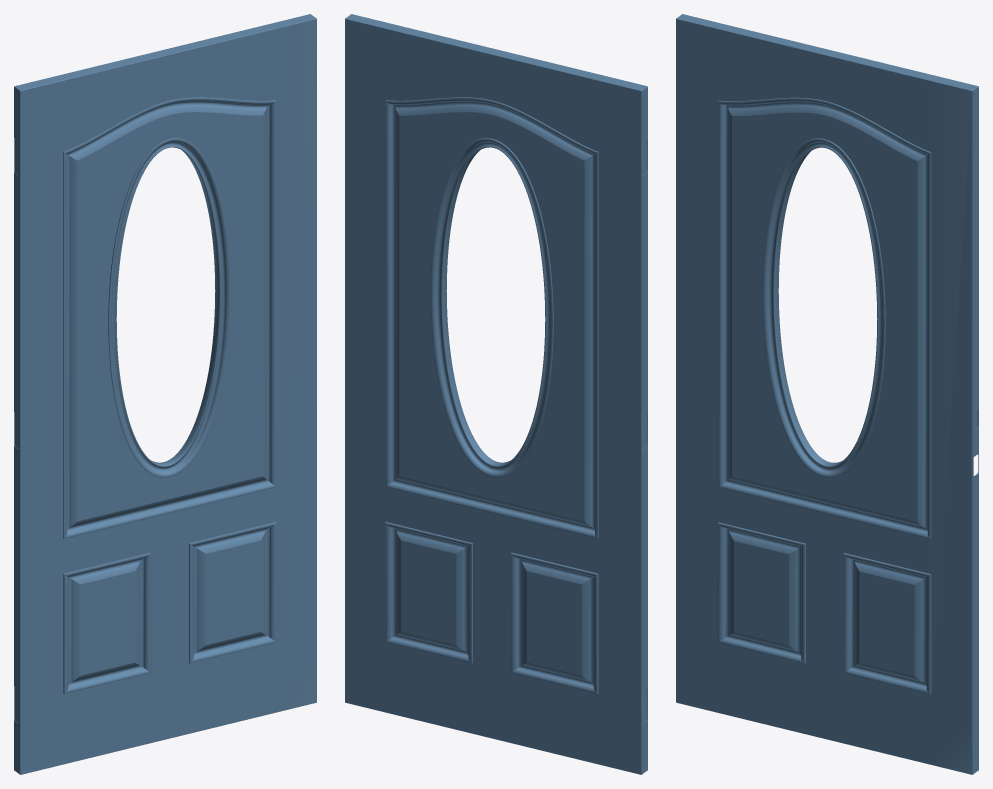
The picture shows the model from 3 angles, left to right: view 1: azimuth 30°, elevation 25°; view 2: azimuth 150°, elevation 25°; view 3: azimuth 330°, elevation 25°; orthographic projection.
Visible parts, largest first — view 1: door150; view 2: door150; view 3: door150.
Part boxes in pixels (bbox=[...]): door150: bbox=[14, 14, 316, 774]; door150: bbox=[345, 14, 647, 774]; door150: bbox=[676, 14, 978, 774].
Bounding box in the file's own units: 92.23 × 203 × 4.69.
